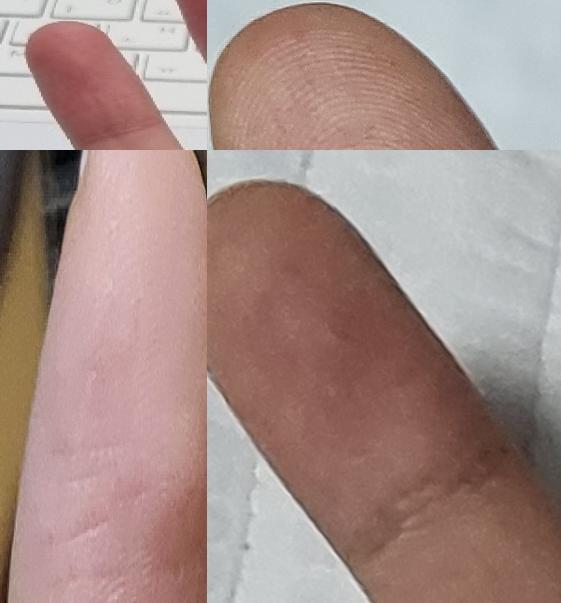Fingerprints: (207, 179, 509, 559), (7, 151, 207, 602), (207, 0, 499, 150), (24, 21, 163, 146)
